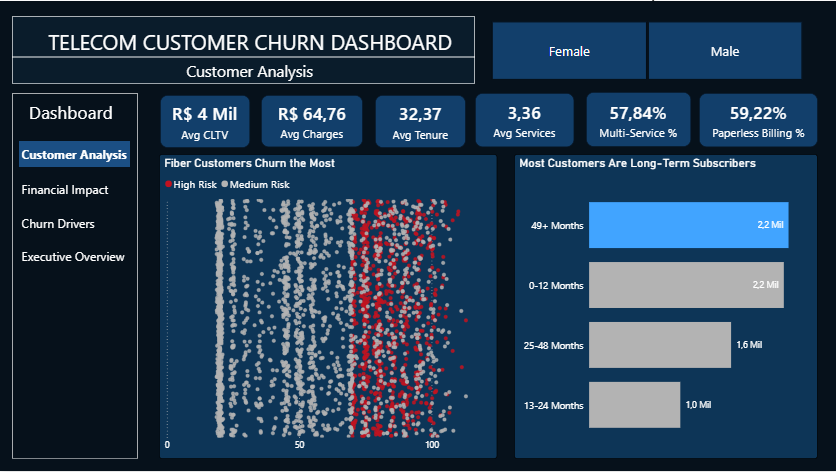

What the dashboard file says about the page in this screenshot:
{"tool":"powerbi","page":{"name":"Customer Analysis","canvas":[1280,720],"ordinal":3},"visuals":[{"type":"shape","title":"Telecom Customer Churn Dashboard","box":[18.4,23,708.9,104.1],"z":0},{"type":"shape","title":"Customer Retention Analytics","box":[18.4,140.9,192.9,560.4],"z":1000},{"type":"cardVisual","fields":{"Data":["Medidas.Avg Customer Tenure"]},"box":[574.2,143.9,139.3,81.1],"z":2000},{"type":"cardVisual","fields":{"Data":["Medidas.Paperless Billing %"]},"box":[1070.2,140.9,182.2,82.7],"z":3000},{"type":"cardVisual","fields":{"Data":["Medidas.Avg CLTV"]},"box":[245,143.9,137.8,81.1],"z":4000},{"type":"cardVisual","fields":{"Data":["Medidas.Avg Monthly Charges"]},"box":[400.2,143.9,156.2,79.6],"z":5000},{"type":"cardVisual","fields":{"Data":["Medidas.Avg Services per Customer"]},"box":[727.3,140.9,151.6,82.7],"z":6000},{"type":"slicer","fields":{"Values":["Telco_customer_churn.Gender"]},"box":[727.3,24.5,525.2,102.6],"z":7000},{"type":"textbox","box":[52.1,35.2,661.4,68.9],"z":8000},{"type":"shape","box":[18.4,70.4,708.9,30.6],"z":9000},{"type":"textbox","box":[269.5,85.7,225.1,55.1],"z":10000},{"type":"textbox","box":[29.1,147,159.2,49],"z":11000},{"type":"scatterChart","title":"Fiber Customers Churn the Most","fields":{"X":["Sum(Telco_customer_churn.Monthly Charges)"],"Y":["Sum(Telco_customer_churn.CLTV)"],"Series":["Telco_customer_churn.Churn Risk"],"Category":["Telco_customer_churn.CustomerID"]},"box":[243.4,234.3,517.5,467],"z":12000},{"type":"clusteredBarChart","title":"Most Customers Are Long-Term Subscribers","fields":{"Category":["Telco_customer_churn.Tenure Category"],"Y":["Medidas.Total Clientes"]},"box":[787,234.3,465.5,467],"z":13000},{"type":"cardVisual","fields":{"Data":["Medidas.Multi-Service %"]},"box":[897.2,139.3,160.8,84.2],"z":14000},{"type":"actionButton","box":[29.1,370.5,170,39.8],"z":15000},{"type":"actionButton","box":[29.1,214.4,170,39.8],"z":16000},{"type":"actionButton","box":[29.1,319.5,147,39.8],"z":17000},{"type":"actionButton","box":[29.1,268.5,147,39.8],"z":18000}]}

Visuals, with their boxes in screenshot pixels (x1, y1, x2, y2), scaled from the page's 1280x720 canvas onto the 836x472 screenshot:
"Telecom Customer Churn Dashboard" shape: region(12, 15, 475, 83)
"Customer Retention Analytics" shape: region(12, 92, 138, 460)
cardVisual - Medidas.Avg Customer Tenure: region(375, 94, 466, 148)
cardVisual - Medidas.Paperless Billing %: region(699, 92, 818, 147)
cardVisual - Medidas.Avg CLTV: region(160, 94, 250, 148)
cardVisual - Medidas.Avg Monthly Charges: region(261, 94, 363, 147)
cardVisual - Medidas.Avg Services per Customer: region(475, 92, 574, 147)
slicer - Telco_customer_churn.Gender: region(475, 16, 818, 83)
textbox: region(34, 23, 466, 68)
shape: region(12, 46, 475, 66)
textbox: region(176, 56, 323, 92)
textbox: region(19, 96, 123, 128)
"Fiber Customers Churn the Most" scatterChart: region(159, 154, 497, 460)
"Most Customers Are Long-Term Subscribers" clusteredBarChart: region(514, 154, 818, 460)
cardVisual - Medidas.Multi-Service %: region(586, 91, 691, 147)
actionButton: region(19, 243, 130, 269)
actionButton: region(19, 141, 130, 167)
actionButton: region(19, 209, 115, 236)
actionButton: region(19, 176, 115, 202)
